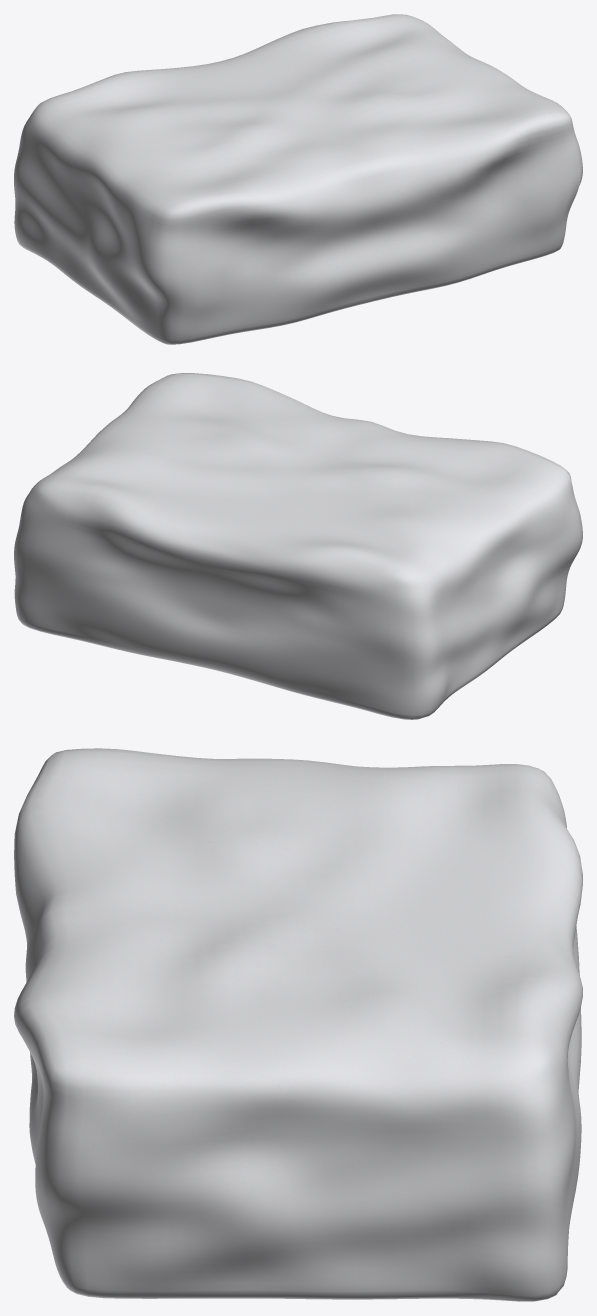
The model's file is snowdesk.fbx.
3 renders of one model, top to bottom at view 1: azimuth 30°, elevation 25°; view 2: azimuth 150°, elevation 25°; view 3: azimuth 270°, elevation 25°, orthographic. The views are drawn at different scales.
Parts seen in each view (by area): view 1: Cube; view 2: Cube; view 3: Cube.
Part boxes in pixels (x1,y1,x2,y2): Cube: (14,14,582,344); Cube: (14,373,582,719); Cube: (14,748,582,1301).
Size of the model in its own units: 324 by 106 by 223.
